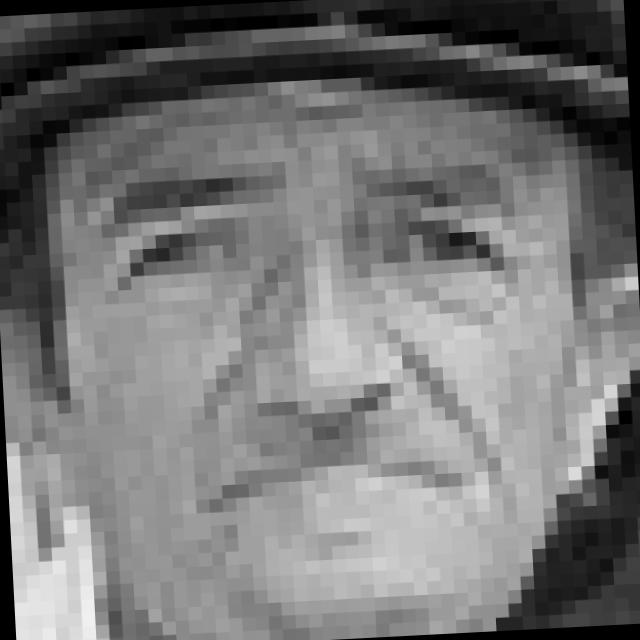sad: (81, 119, 542, 542)
